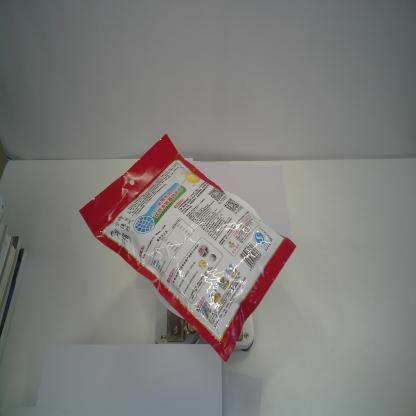Instant Drink: (79, 133, 297, 364)
